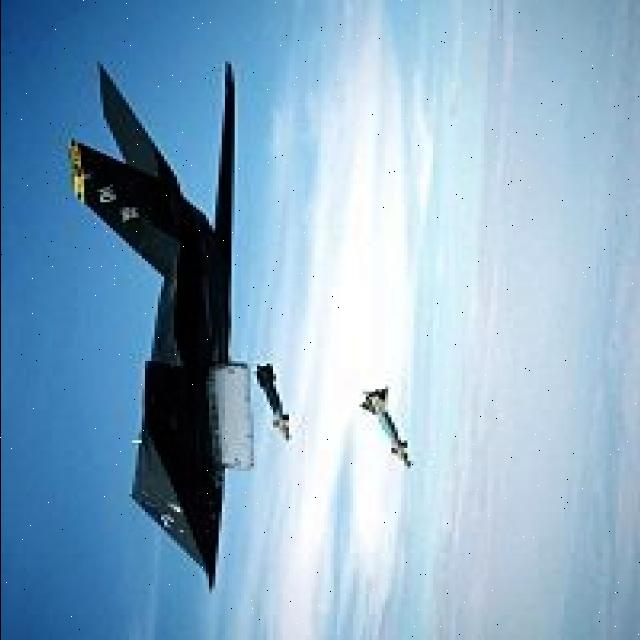F117: (31, 31, 290, 595)
